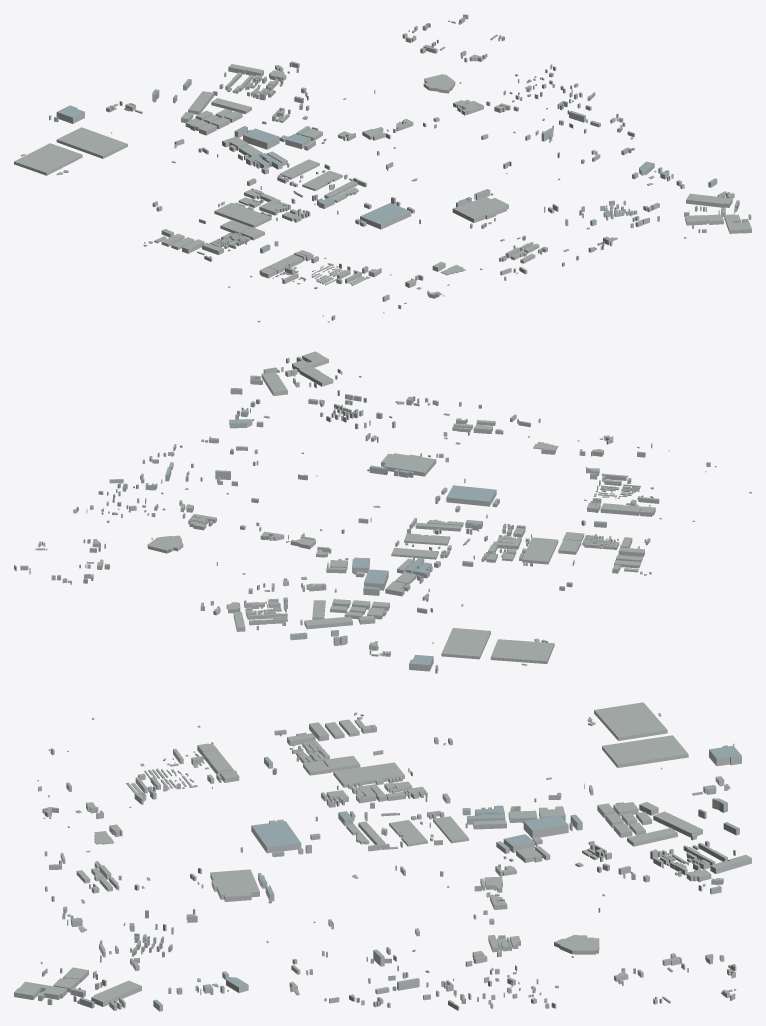
File: far.glb
The picture shows the model from 3 angles, top to bottom: view 1: azimuth 30°, elevation 25°; view 2: azimuth 150°, elevation 25°; view 3: azimuth 270°, elevation 25°; orthographic projection. The views are drawn at different scales.
Bounding box in the file's own units: 2163 × 30.7 × 2206.
